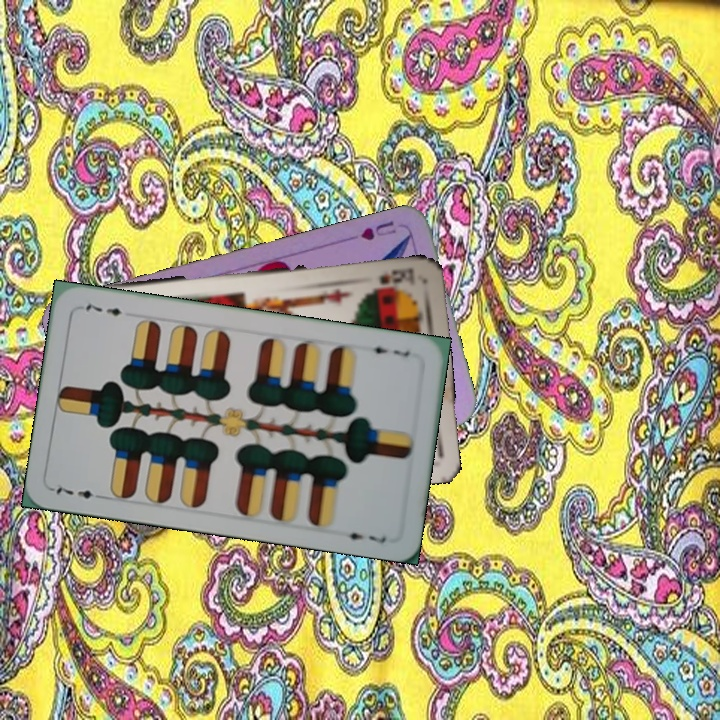E7: (49, 480, 95, 501), (363, 341, 412, 360)
HU: (356, 216, 399, 243)
SK: (374, 263, 418, 287)
